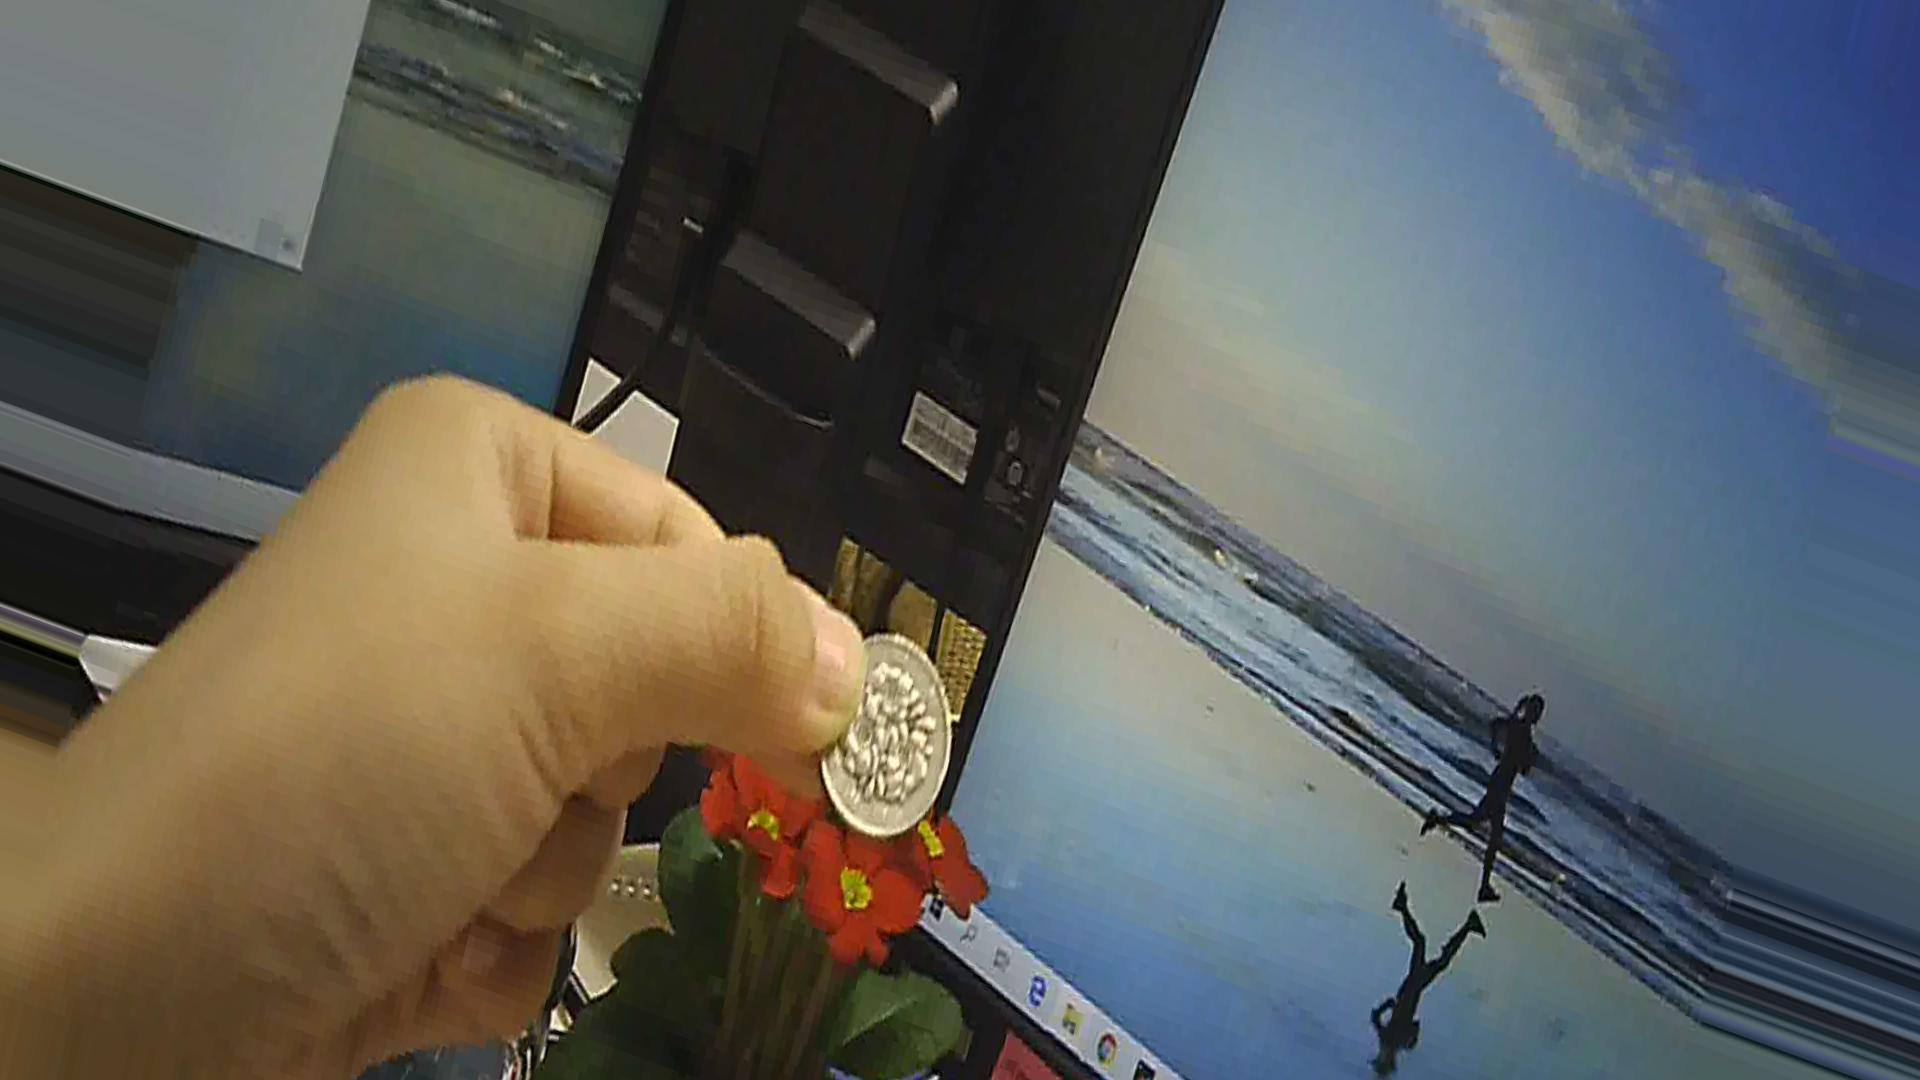100 Yen: (814, 628, 971, 847)
